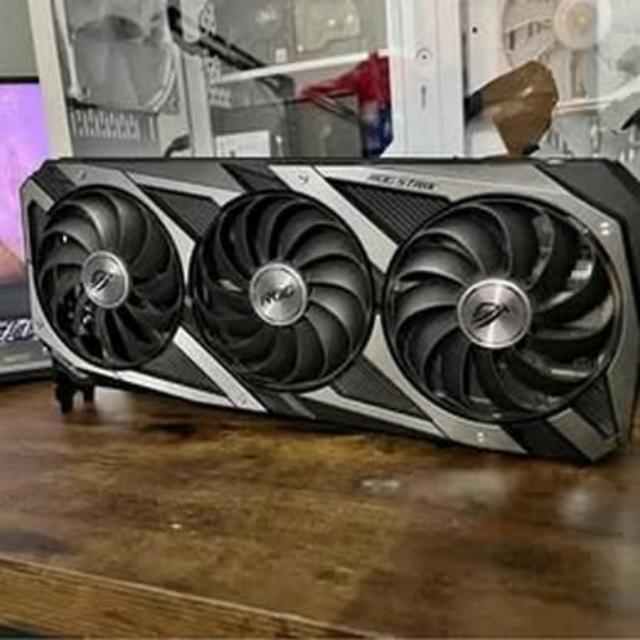GPU: (20, 150, 640, 472)
